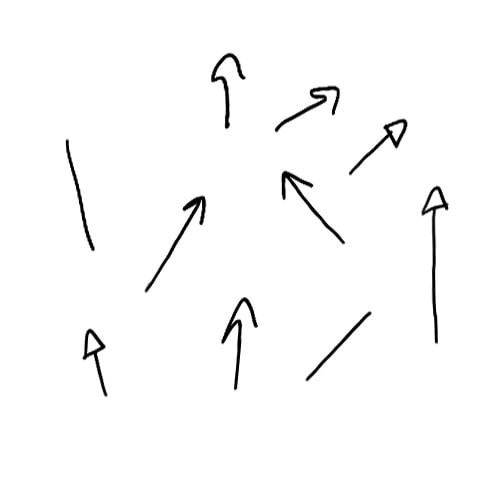arrow: (144, 193, 205, 287), (280, 168, 345, 244), (420, 188, 451, 342), (223, 292, 261, 390), (347, 116, 406, 176), (270, 85, 344, 129), (211, 52, 252, 129), (84, 329, 111, 398)
arrownohead: (305, 310, 372, 379), (60, 139, 97, 251)
